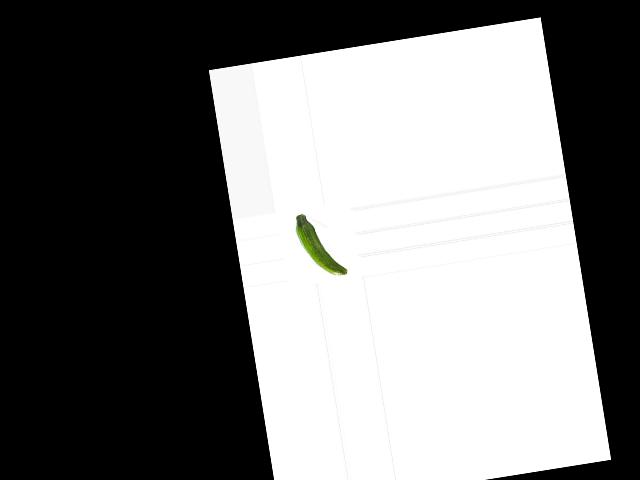cucumber: (293, 207, 348, 281)
